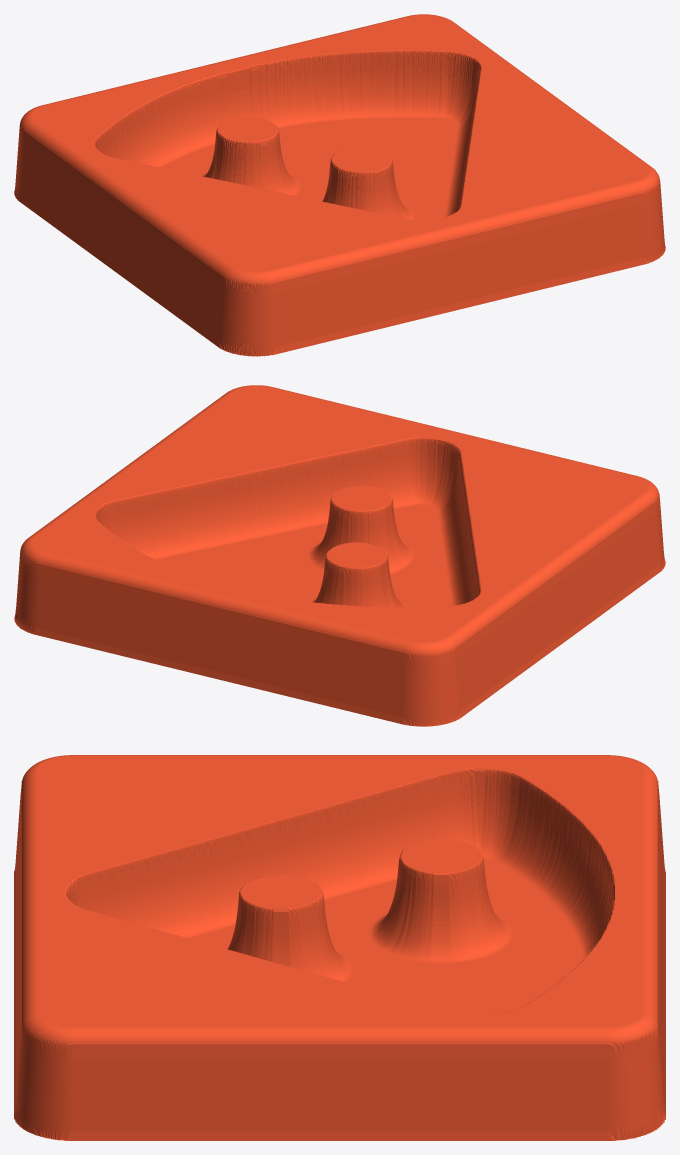
The model's file is mold.glb.
3 views of the same model, one above another, from view 1: azimuth 30°, elevation 25°; view 2: azimuth 150°, elevation 25°; view 3: azimuth 270°, elevation 25° (orthographic). The views are drawn at different scales.
Visible parts, largest first — view 1: geometry_0; view 2: geometry_0; view 3: geometry_0.
Part boxes in pixels (bbox=[...]): geometry_0: bbox=[14, 14, 665, 356]; geometry_0: bbox=[14, 385, 665, 726]; geometry_0: bbox=[14, 755, 665, 1140].
Bounding box in the file's own units: 0.105 × 0.0175 × 0.0996.
